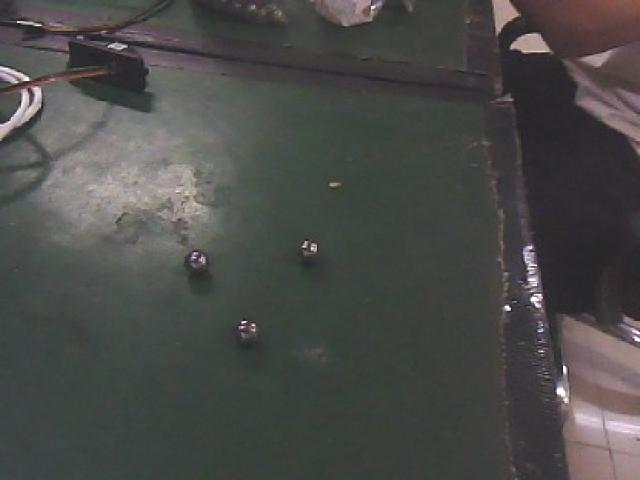steel-ball: (218, 305, 280, 357), (170, 229, 224, 286), (289, 220, 328, 266)
